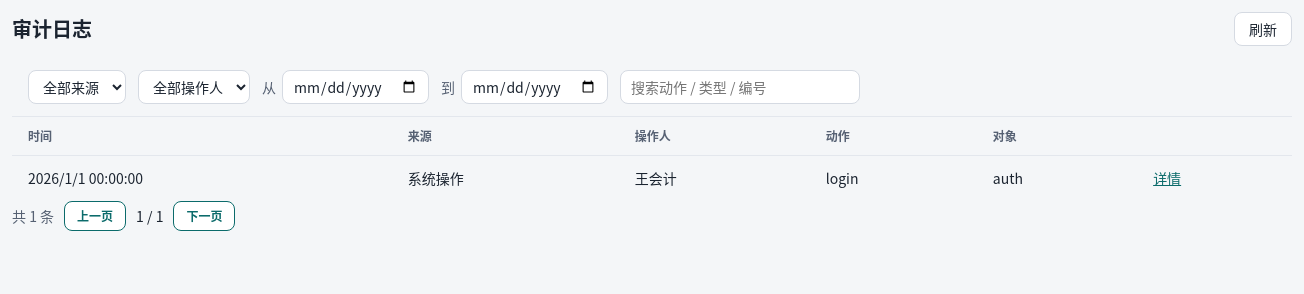
Test: 审计日志 › 可按操作人筛选，请求带上 actorId；没有结果时能清除筛选
This screenshot has width=1304, height=294.
Expected: the text "login" is shown, [810,156,977,201]
Select "王会计" in the dropdown named "操作人" at (194, 87), box [138,70,250,104]
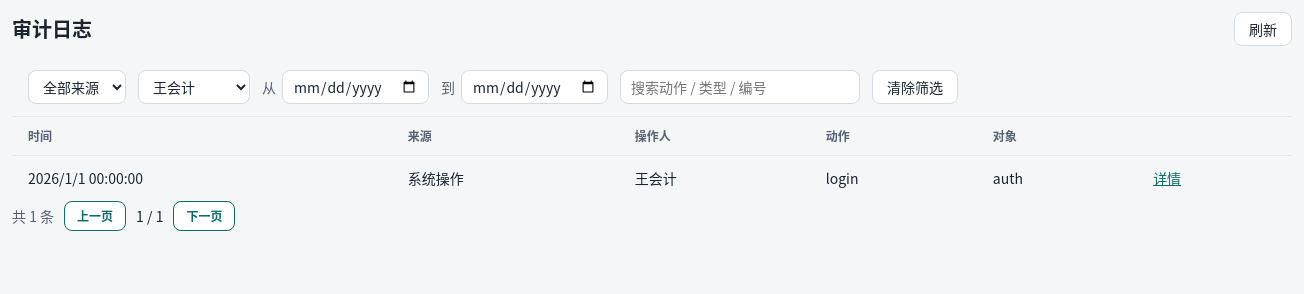
Type "zzz" into the search field labelled "搜索" at (740, 87), box [620,70,860,104]
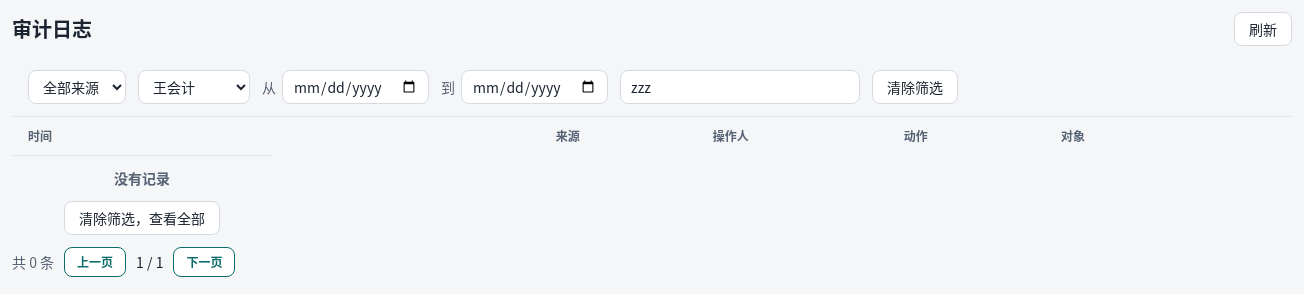
Click the button "清除筛选，查看全部" at (142, 218), box [64,201,220,235]
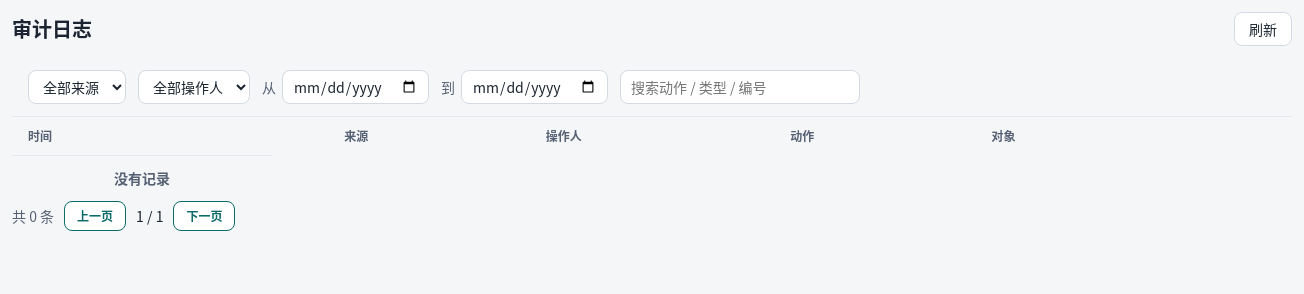
Expected: the search field labelled "搜索" is empty, [620,70,860,104]
